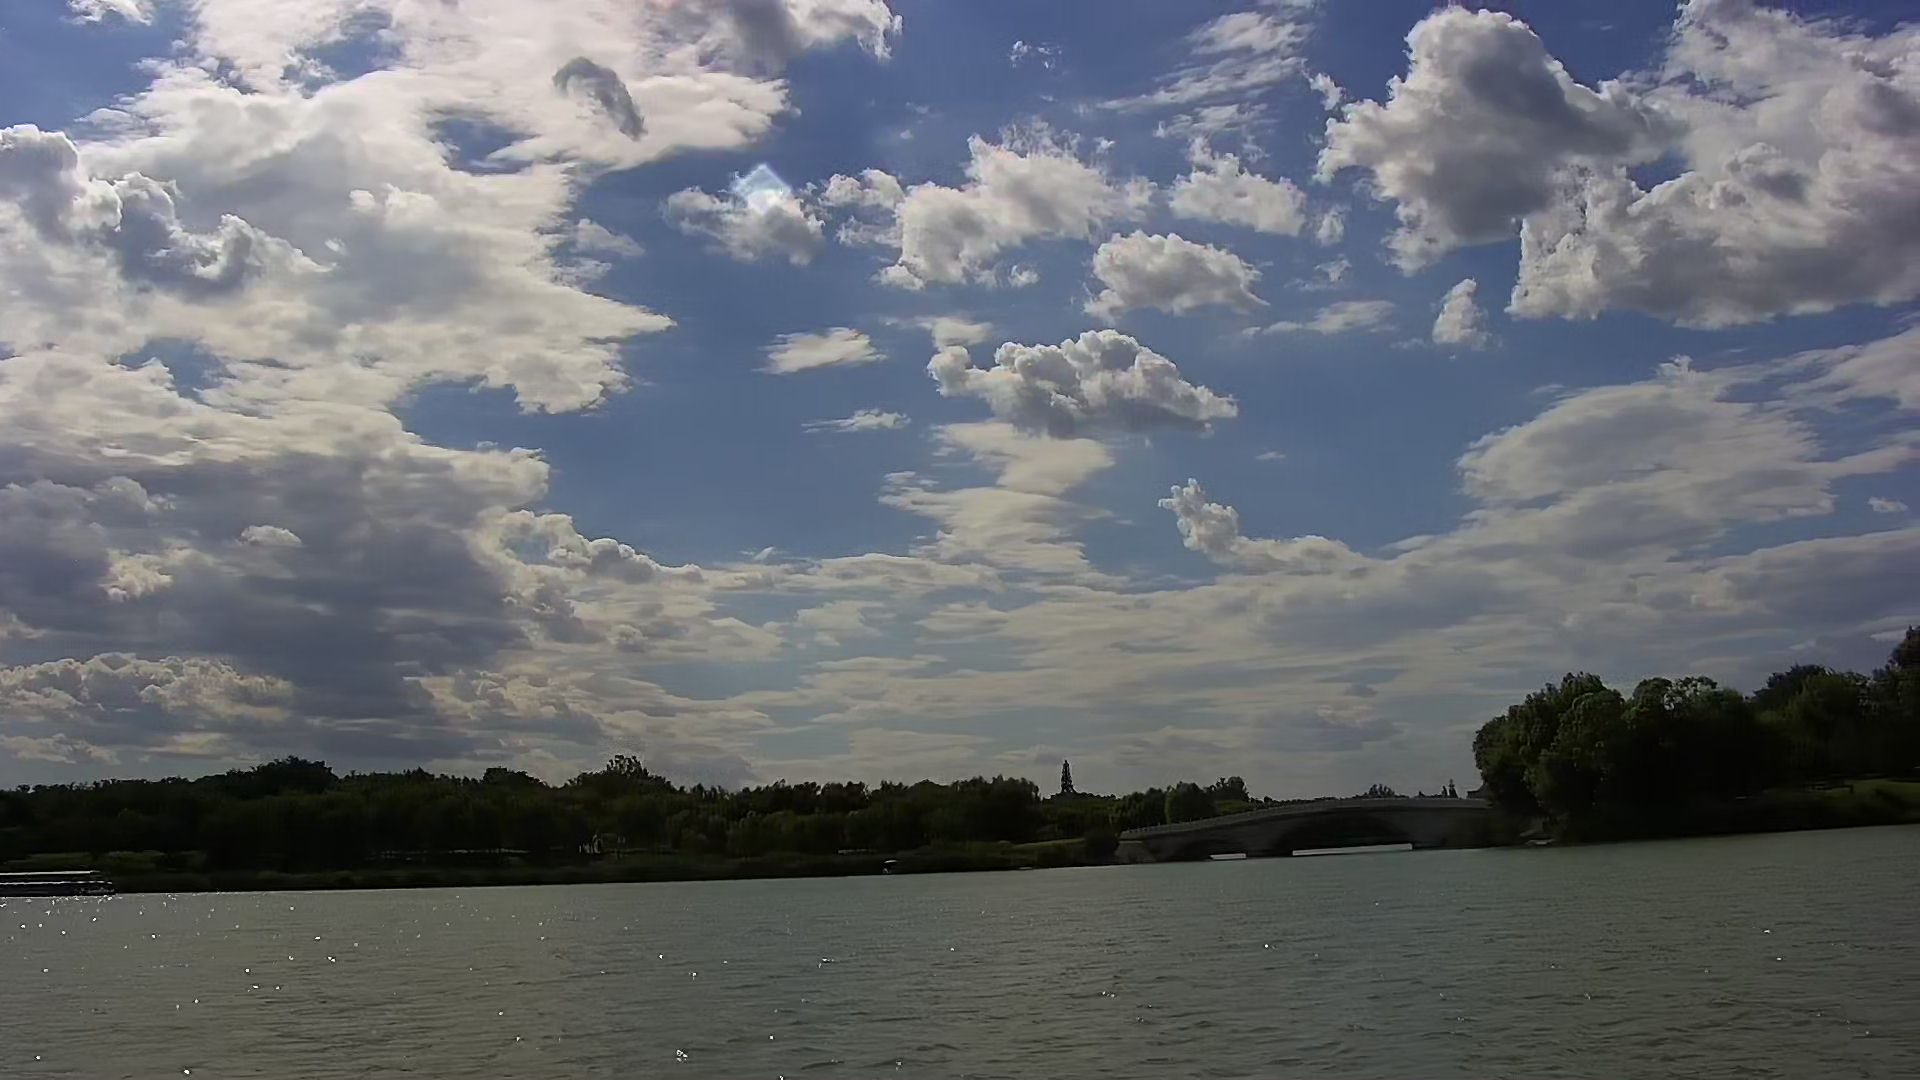bridge: (1135, 794, 1491, 858)
harbor: (1, 865, 109, 899)
